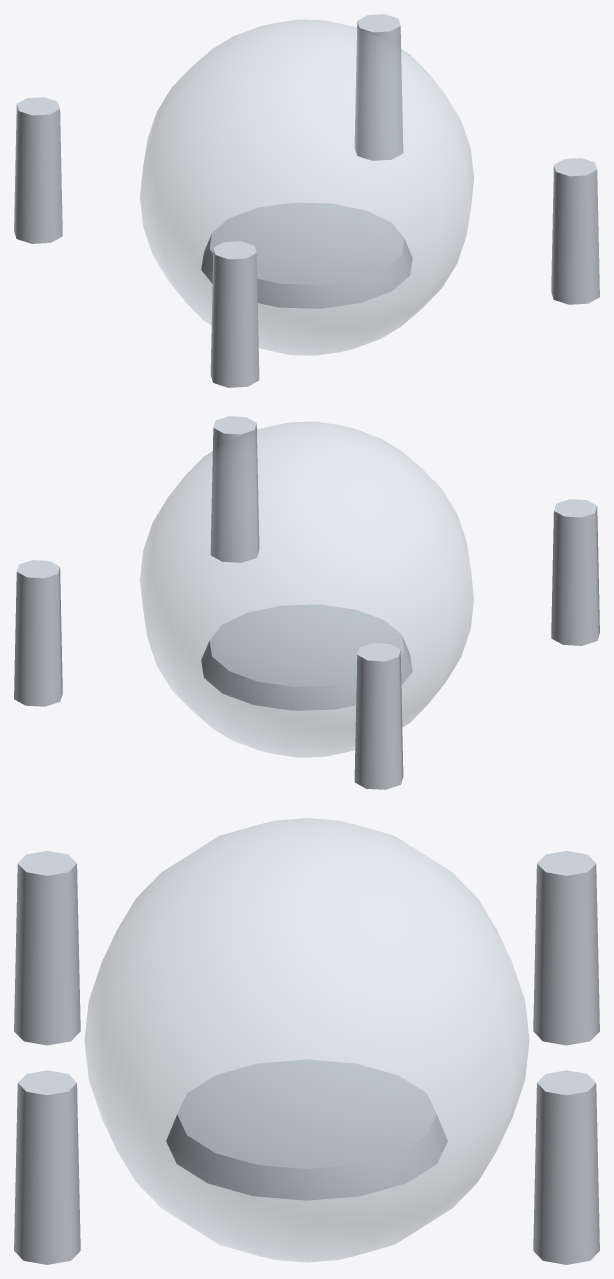
File: atl_02.glb
3 views of the same model, one above another, from view 1: azimuth 30°, elevation 25°; view 2: azimuth 150°, elevation 25°; view 3: azimuth 270°, elevation 25° (orthographic). The views are drawn at different scales.
Parts seen in each view (by area): view 1: ATL_02; view 2: ATL_02; view 3: ATL_02.
Boxes of the visible parts, box(x1,y1,x2,y2) form: ATL_02: box(14, 14, 599, 387); ATL_02: box(14, 416, 599, 789); ATL_02: box(14, 818, 599, 1264).
Size of what is drawn, in the model's own units: 15.8 by 12 by 15.8.
